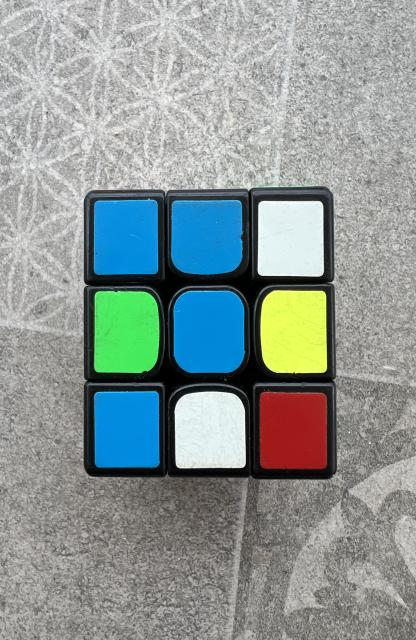Blue: (173, 290, 245, 372), (171, 200, 243, 275), (94, 391, 159, 468), (94, 200, 158, 275)
Green: (94, 291, 159, 374)
Red: (260, 392, 327, 469)
White: (174, 391, 246, 469), (258, 201, 324, 276)
Yellow: (260, 290, 327, 374)
